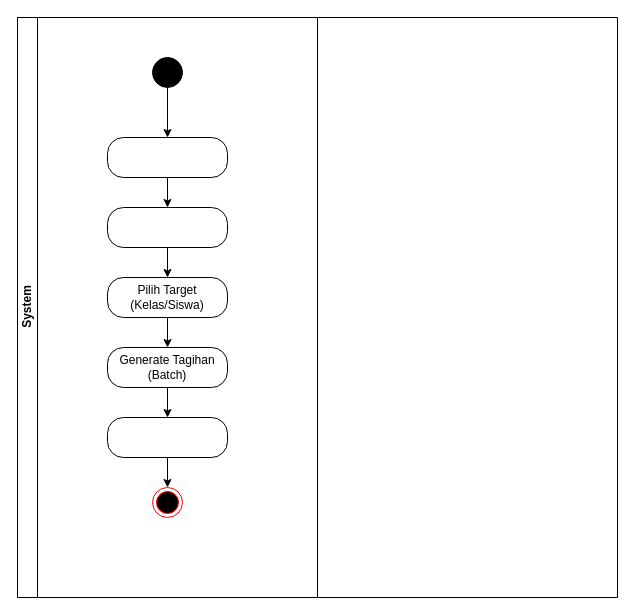
Some shapes in this 635 by 615 pixel diagram are drawn without their labels. Each missing label, with the centre of its shape:
"Buat Template Tagihan" belongs at (167,157).
"Kirim Notifikasi Tagihan" belongs at (167,437).
"Simpan Template" belongs at (167,227).
